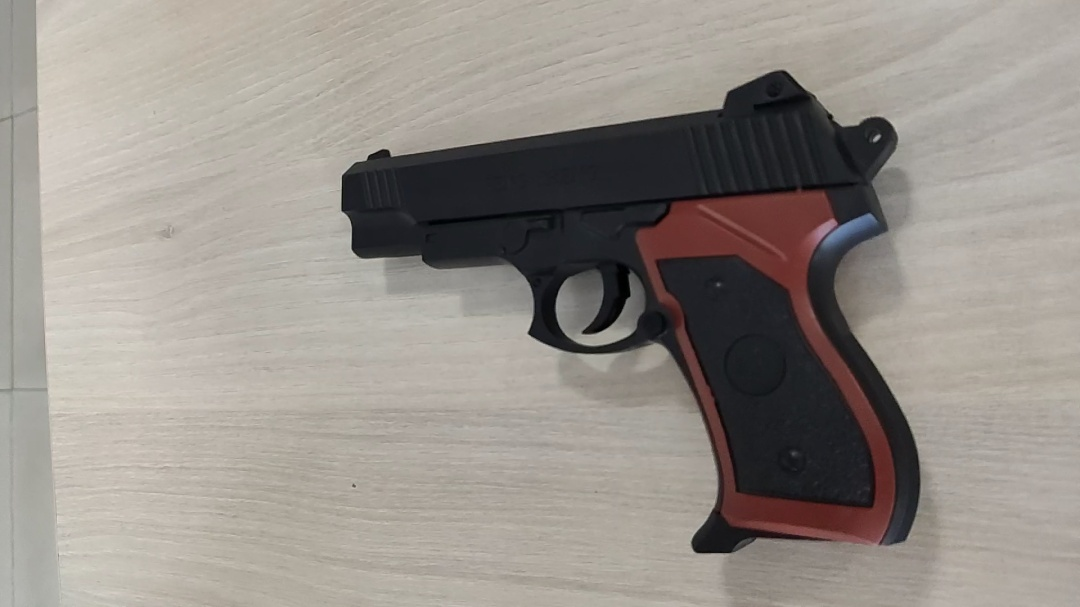gun: (539, 210, 642, 265)
